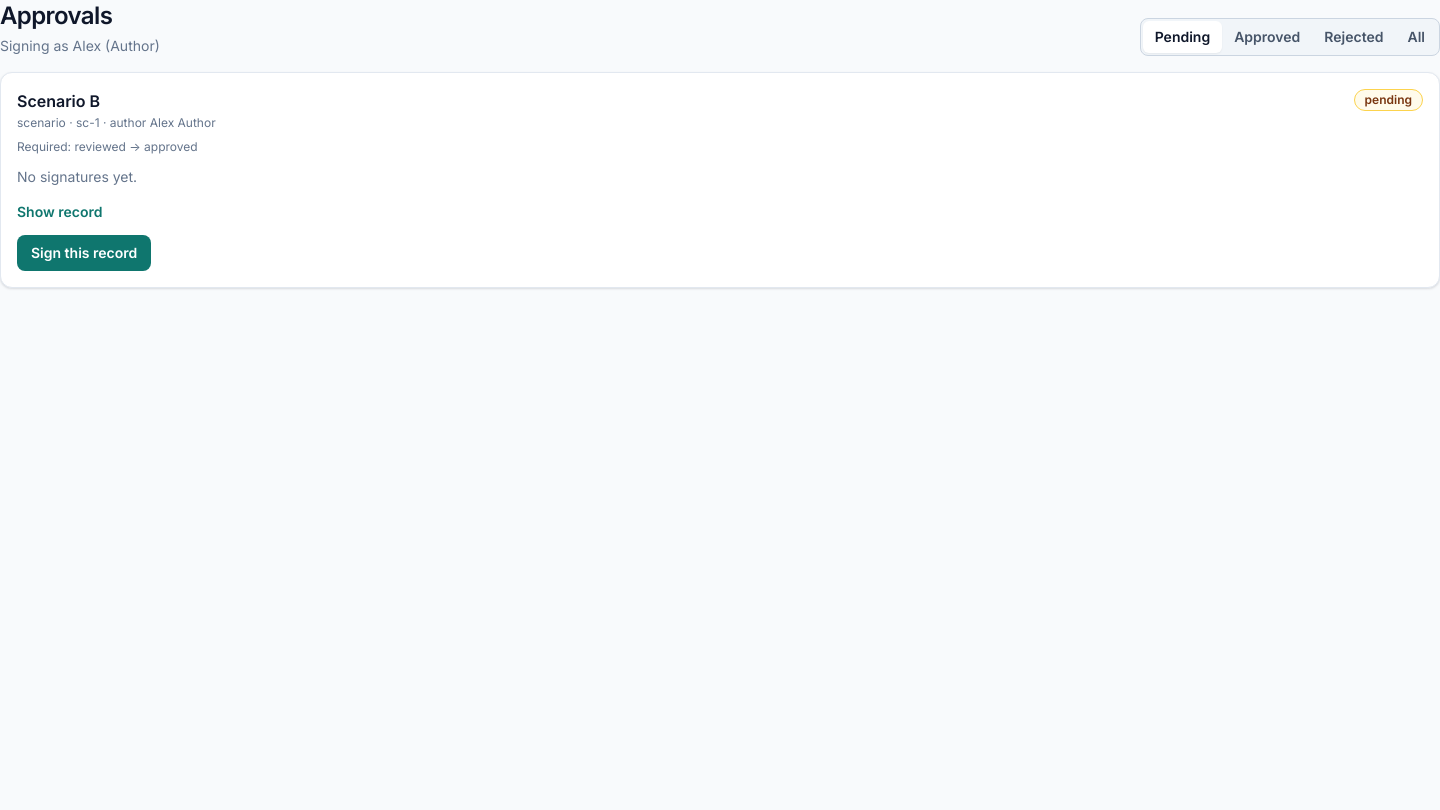
approvals › shows the self-approval message when the author signs
Expected: the text "Scenario B" is shown, [17,91,100,111]
Click the button "Sign this record". click: {"x": 84, "y": 253}
box: [17,235,151,271]
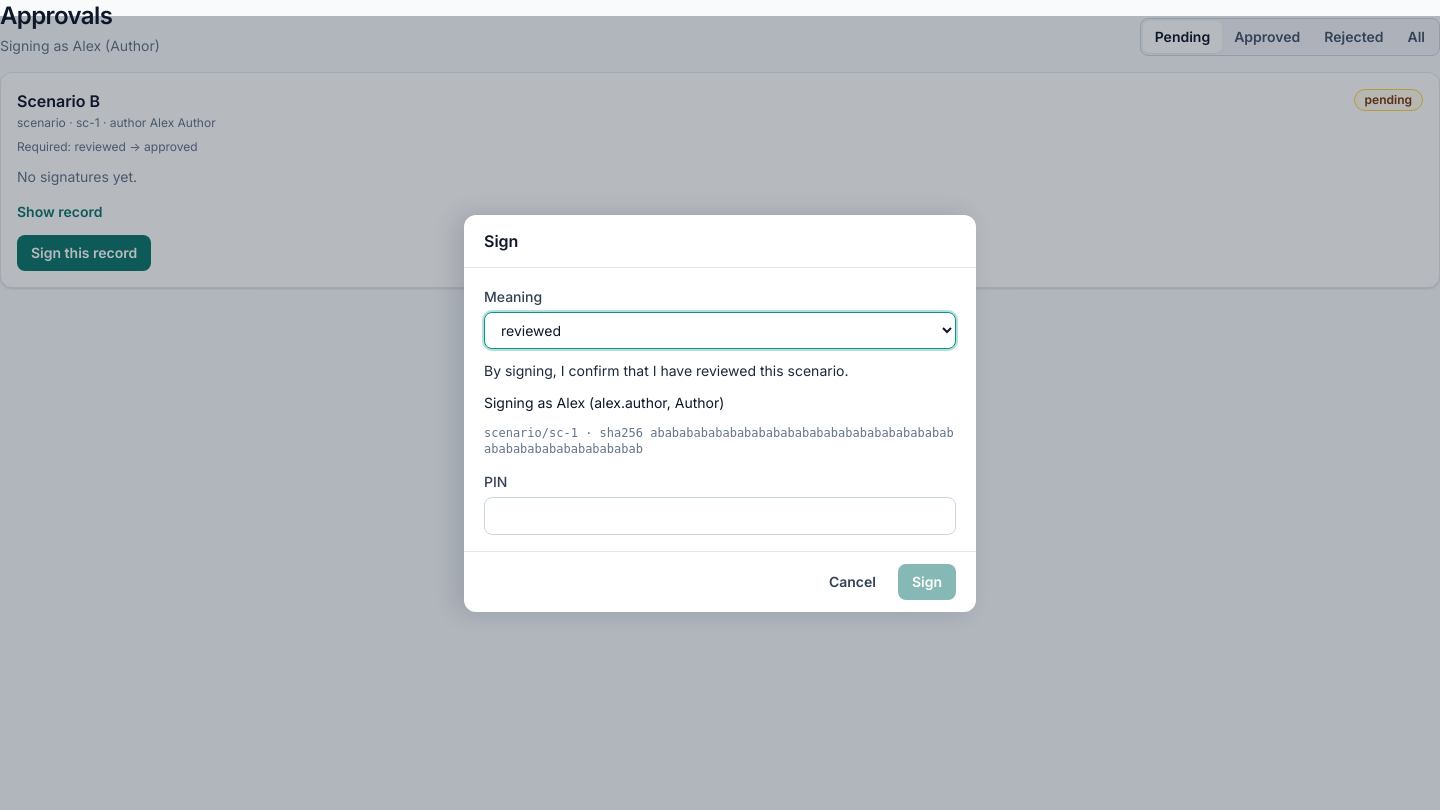
Type "1111" into the password field labelled "PIN". click: {"x": 720, "y": 516}
box: [484,496,956,534]
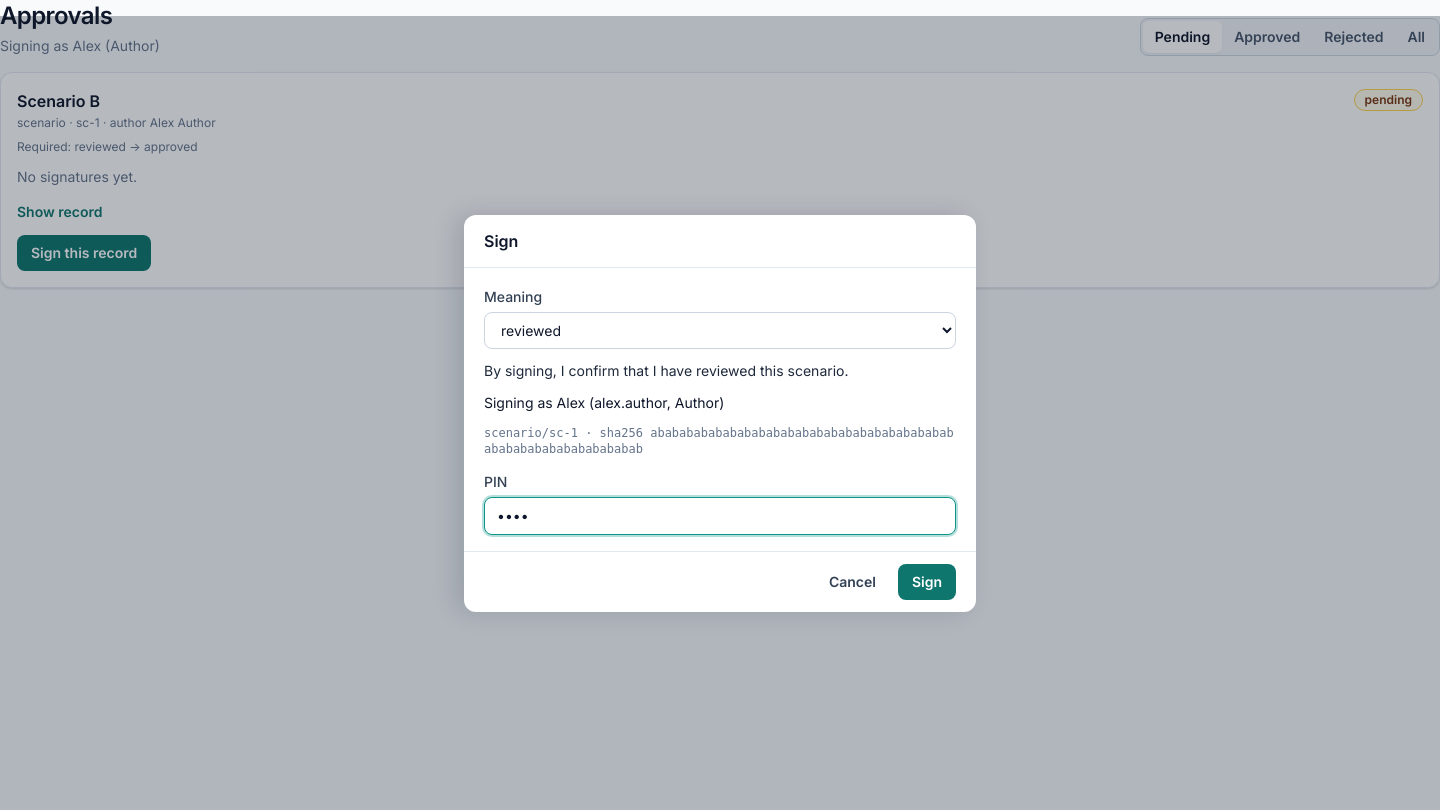
Click the button "Sign". click: {"x": 927, "y": 582}
box: [898,564,956,600]
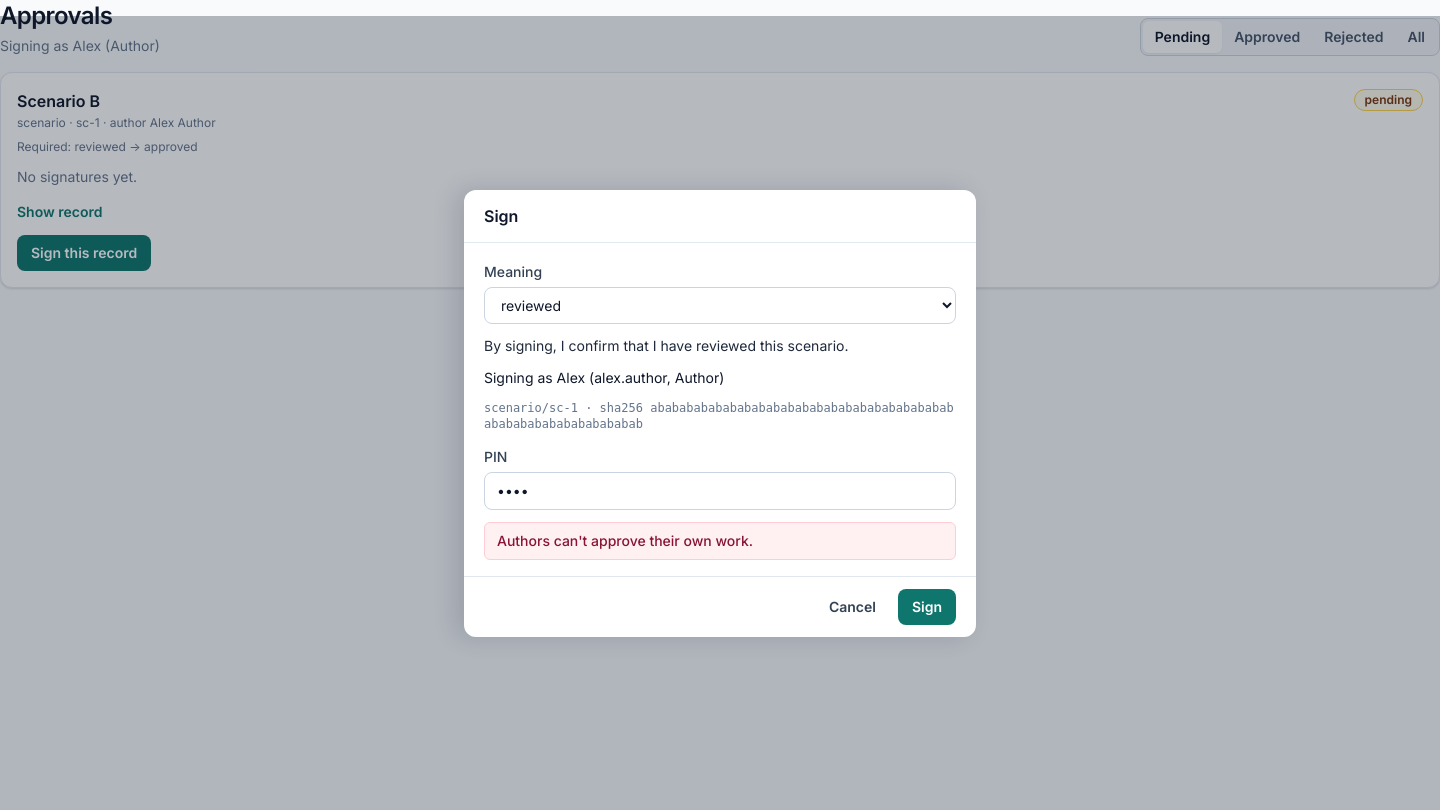
Expected: the message with test id "sign-error" reads "Authors can't approve their own work.", [497,532,753,548]
